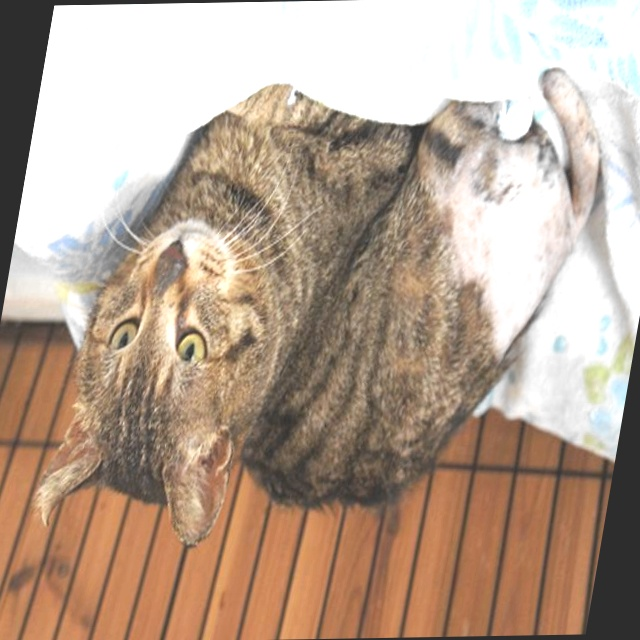hairloss: (424, 120, 591, 350)
